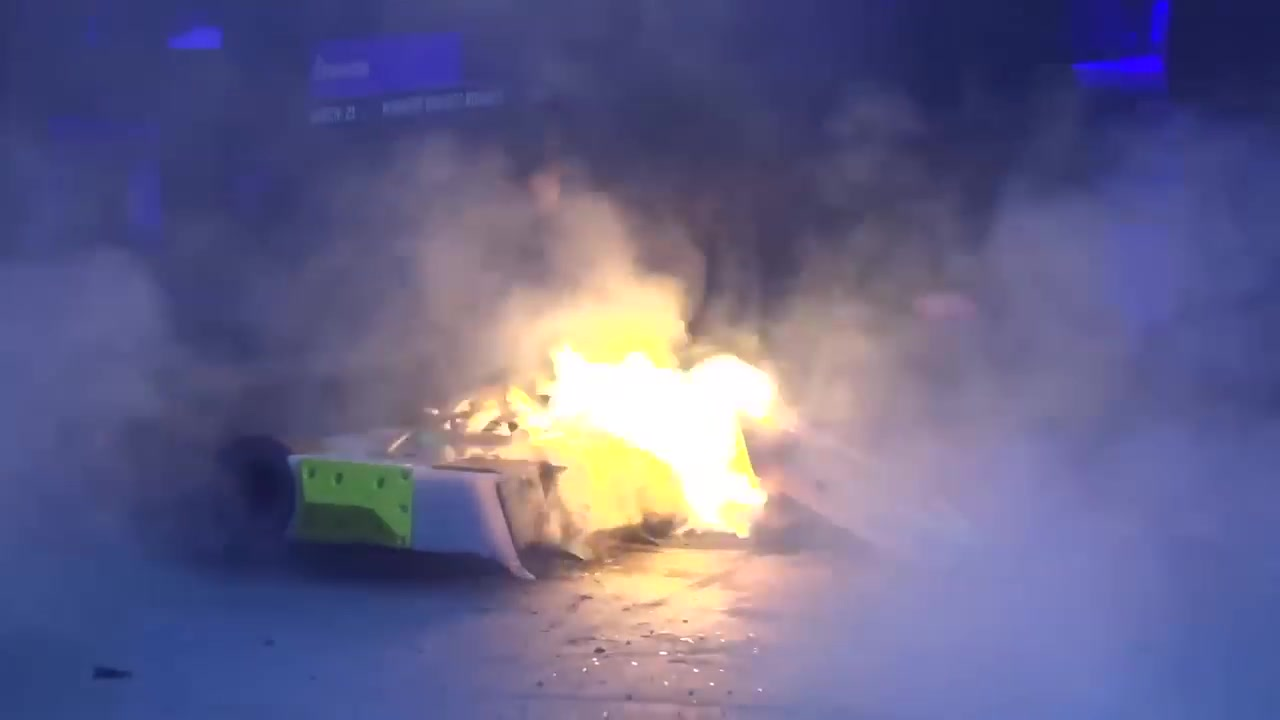combatbot: (208, 376, 695, 581)
